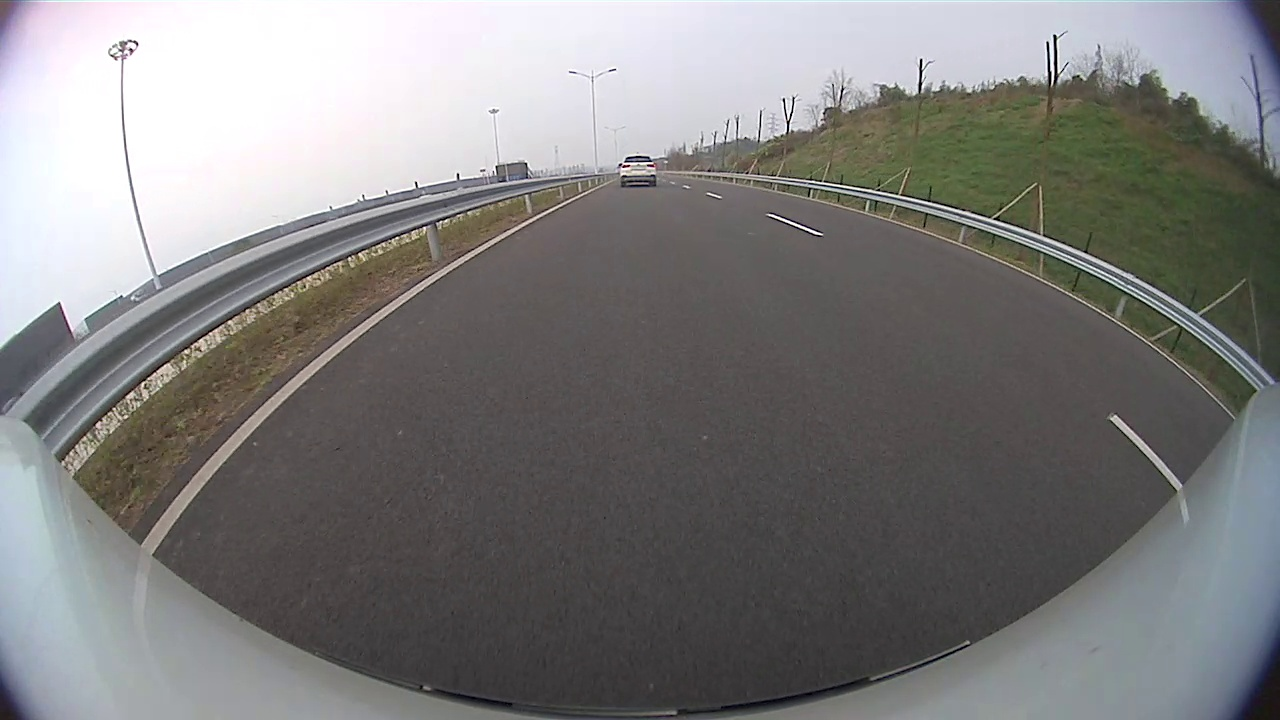car: (618, 156, 656, 187)
